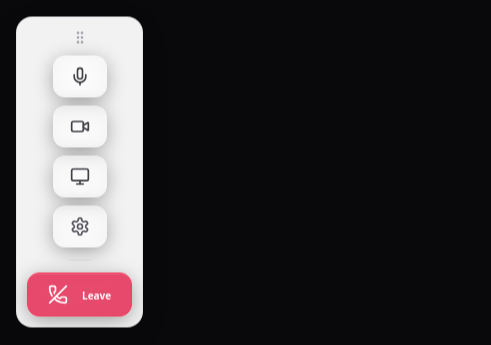
ControlBar Vertical Left Dock & Non-Colliding Layout › opens device settings popover to the right when vertical
Click the button with test id "device-settings-btn": [80, 226] box [53,206,107,248]
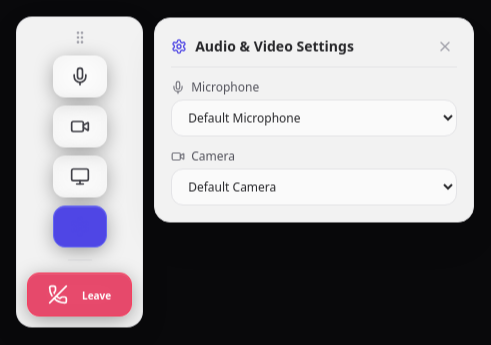
Expected: the element with test id "device-settings-popover" is shown, [154,18,474,222]
